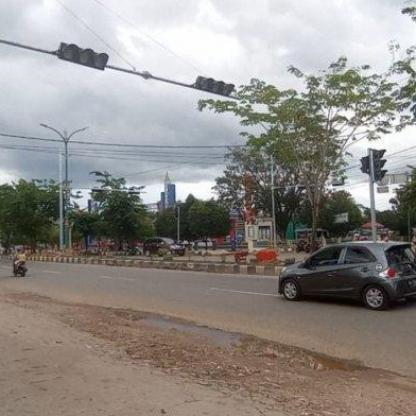green: (55, 42, 108, 73), (196, 76, 236, 96)
